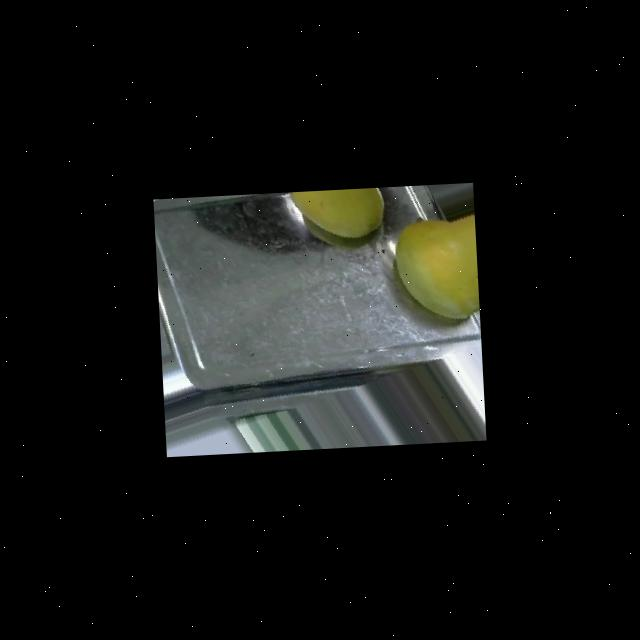Mango: (394, 210, 481, 323), (289, 188, 386, 242)
